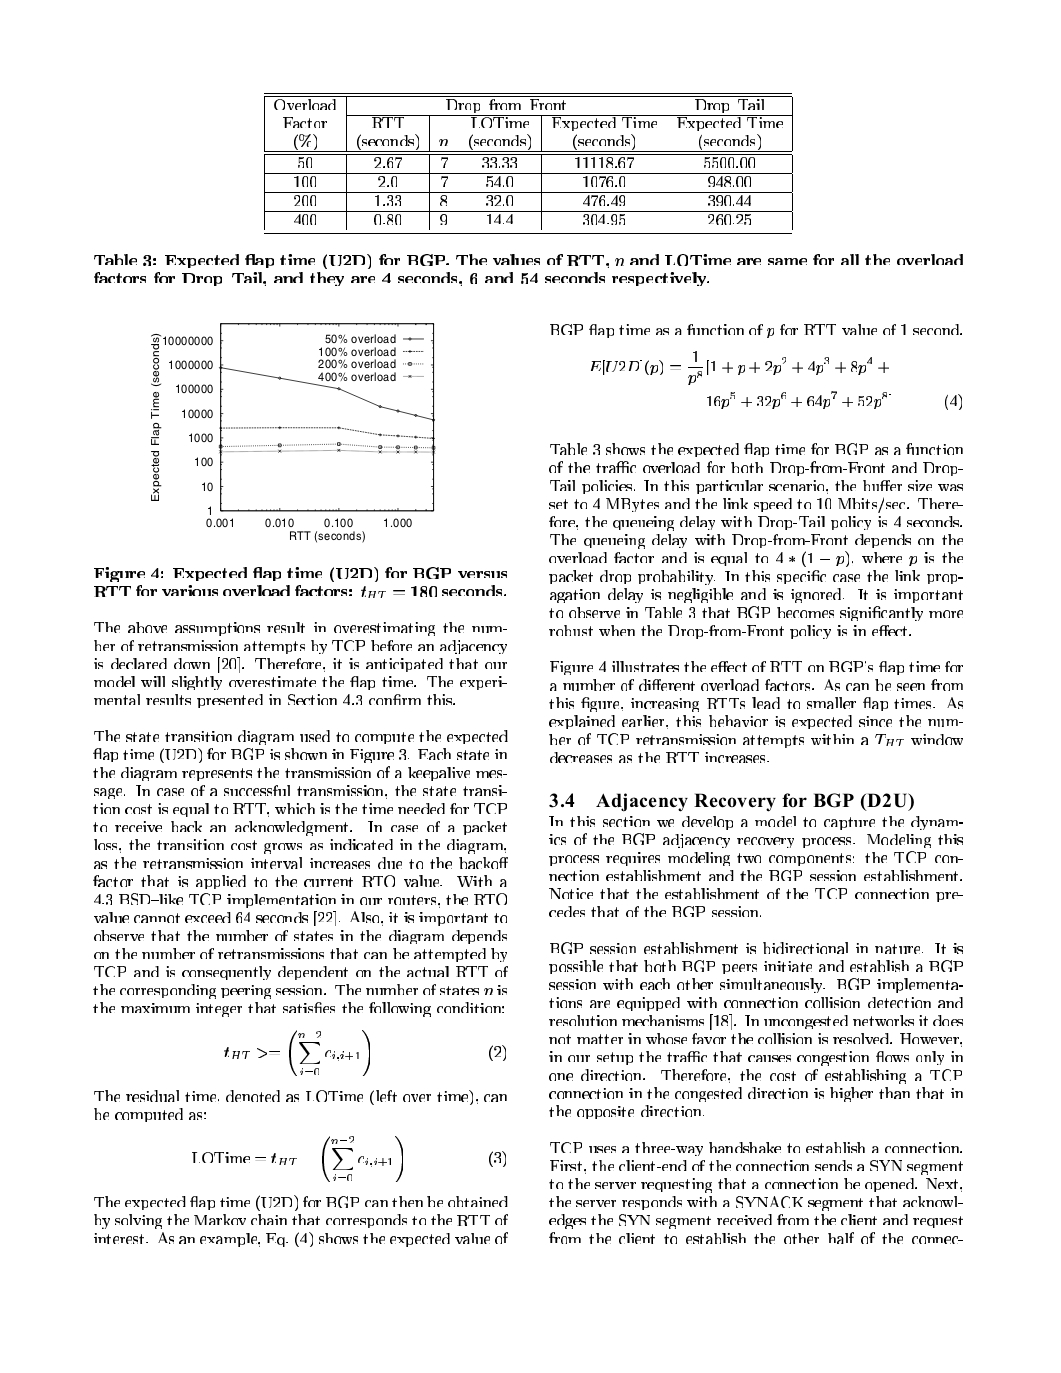Table: (264, 92, 792, 230)
figure: (150, 323, 435, 542)
formula: (192, 1135, 505, 1182), (224, 1029, 505, 1077), (590, 350, 888, 384), (707, 390, 961, 410)
